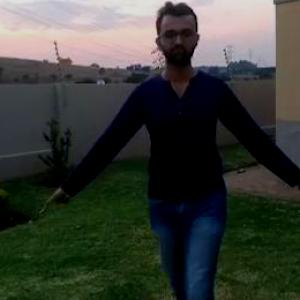land: (67, 15, 299, 299)
